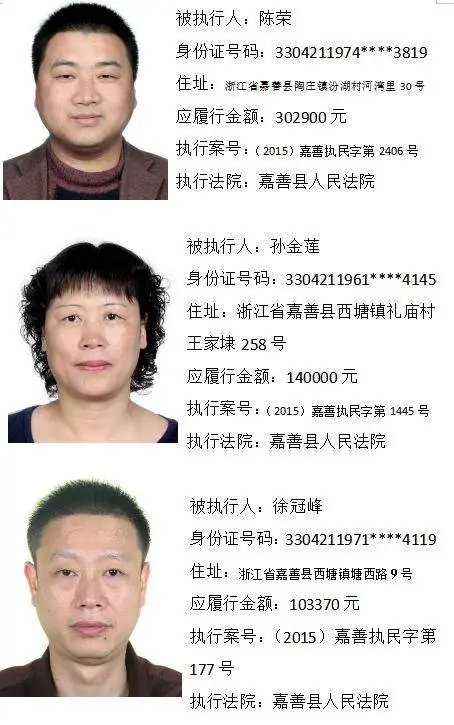normal: (15, 238, 173, 398), (22, 485, 157, 656), (32, 3, 140, 146)
